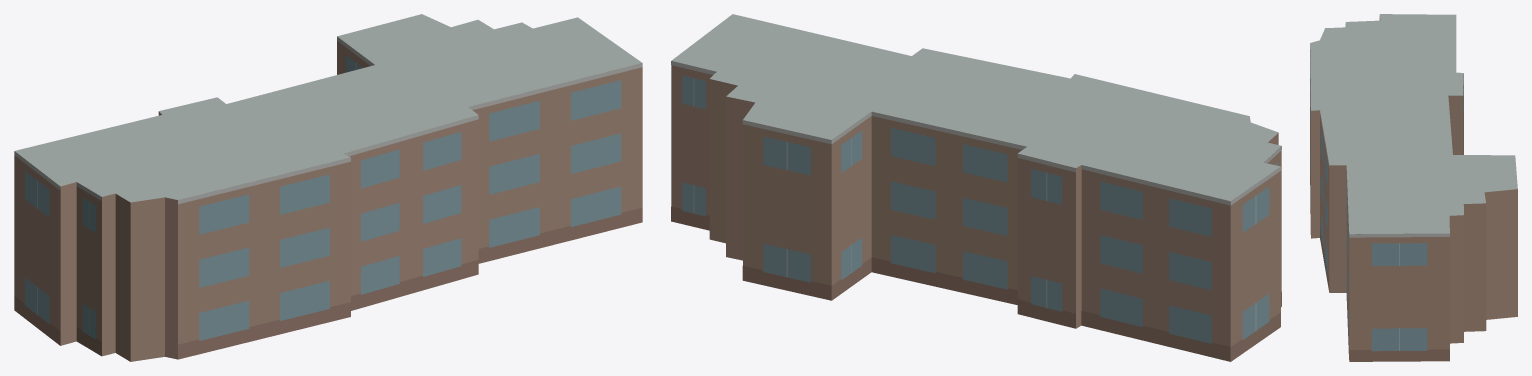
File: survey-upis-33003958.glb
The picture shows the model from 3 angles, left to right: view 1: azimuth 30°, elevation 25°; view 2: azimuth 150°, elevation 25°; view 3: azimuth 270°, elevation 25°; orthographic projection. The views are drawn at different scales.
Parts seen in each view (by area): view 1: survey-upis-33003958.tmp; view 2: survey-upis-33003958.tmp; view 3: survey-upis-33003958.tmp.
Boxes of the visible parts, bbox=[...] form: survey-upis-33003958.tmp: bbox=[14, 14, 642, 361]; survey-upis-33003958.tmp: bbox=[671, 14, 1281, 361]; survey-upis-33003958.tmp: bbox=[1310, 14, 1517, 361].
Bounding box in the file's own units: 33.83 × 9.15 × 13.5.
